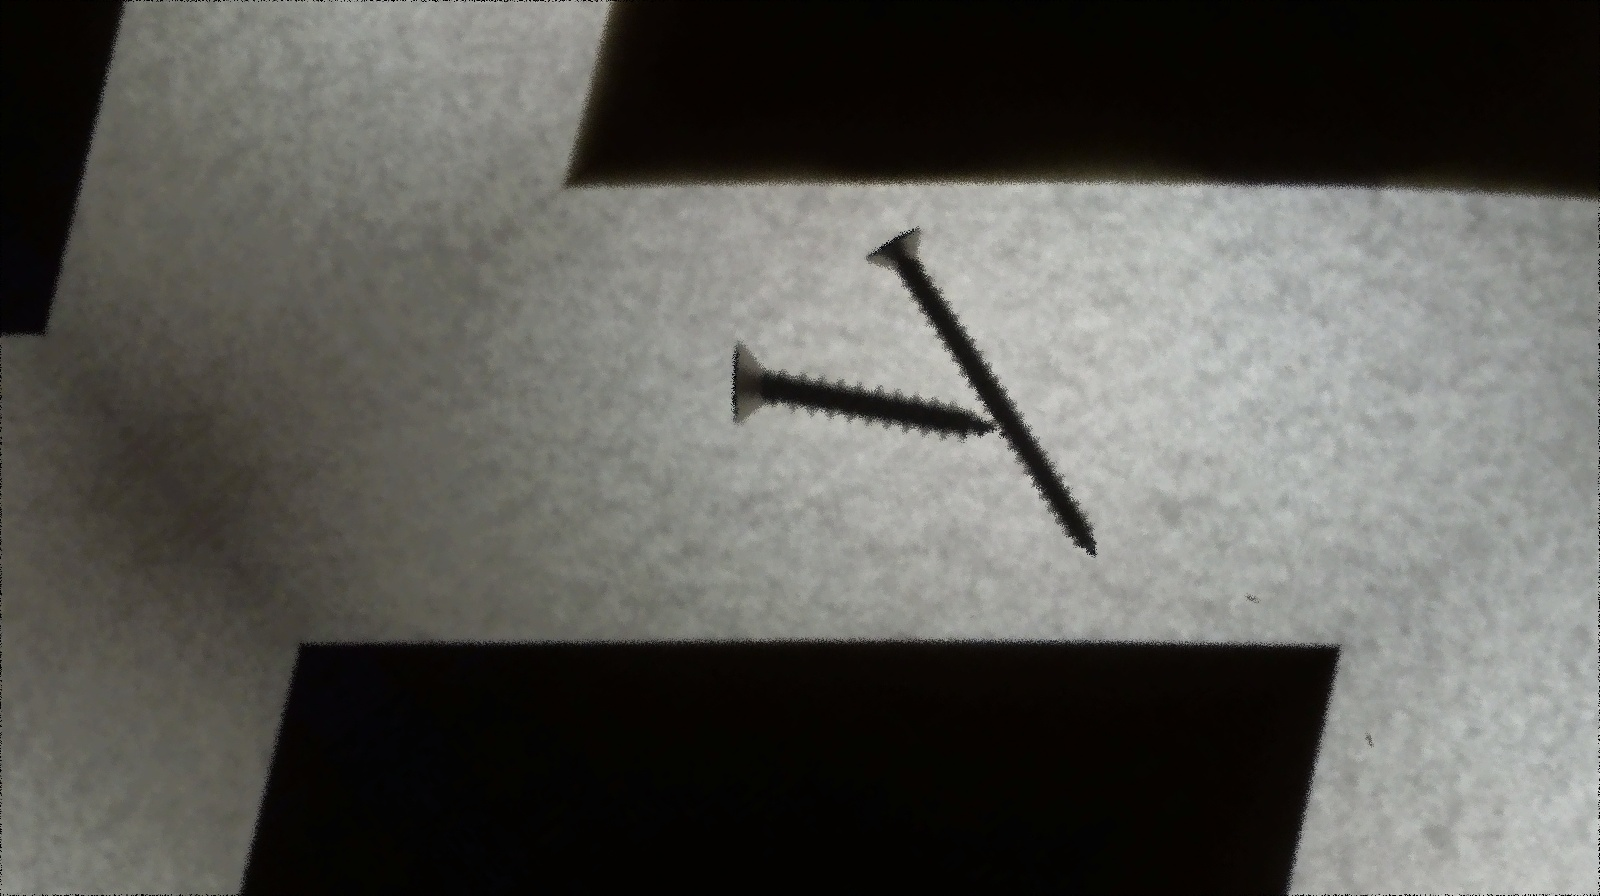S001: (691, 252, 990, 546)
S002: (836, 212, 1151, 562)
